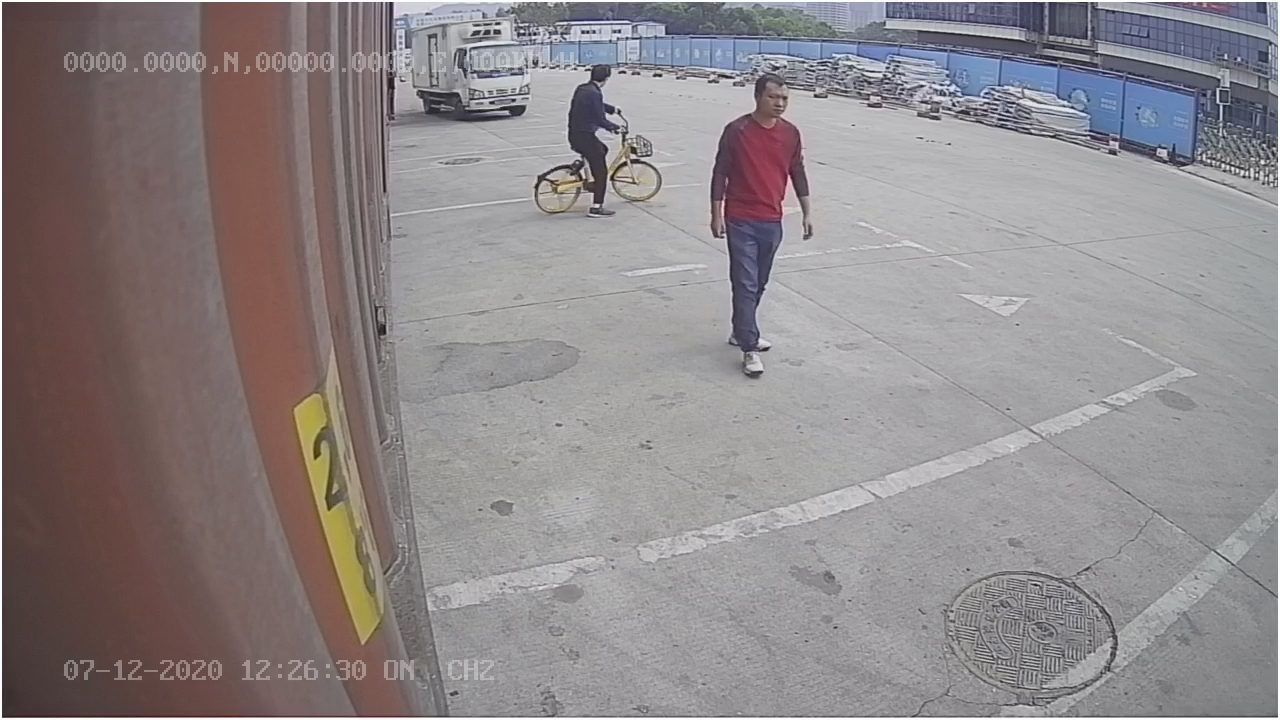person: (705, 69, 820, 378)
